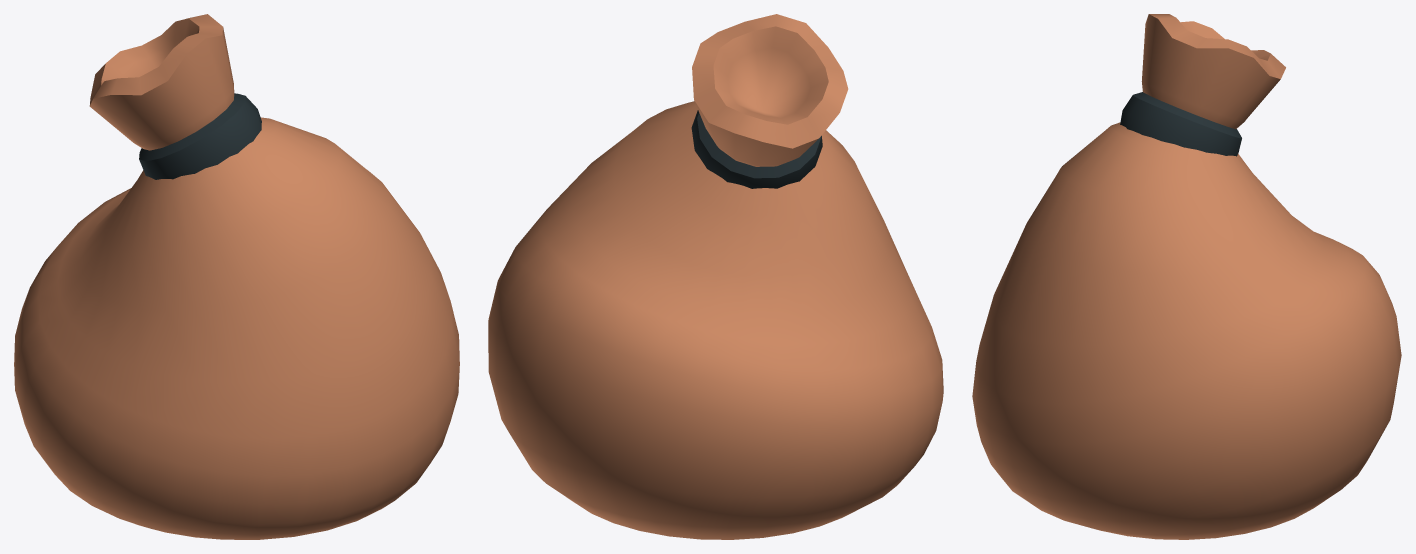
File: sackB.gltf.glb
The picture shows the model from 3 angles, left to right: view 1: azimuth 30°, elevation 25°; view 2: azimuth 150°, elevation 25°; view 3: azimuth 270°, elevation 25°; orthographic projection. The views are drawn at different scales.
Parts seen in each view (by area): view 1: sackB; view 2: sackB; view 3: sackB.
Boxes of the visible parts, box(x1,y1,x2,y2) form: sackB: box(14, 14, 459, 539); sackB: box(488, 14, 943, 539); sackB: box(972, 14, 1401, 539).
Size of the model in its own units: 0.6921 by 0.7844 by 0.6842.
